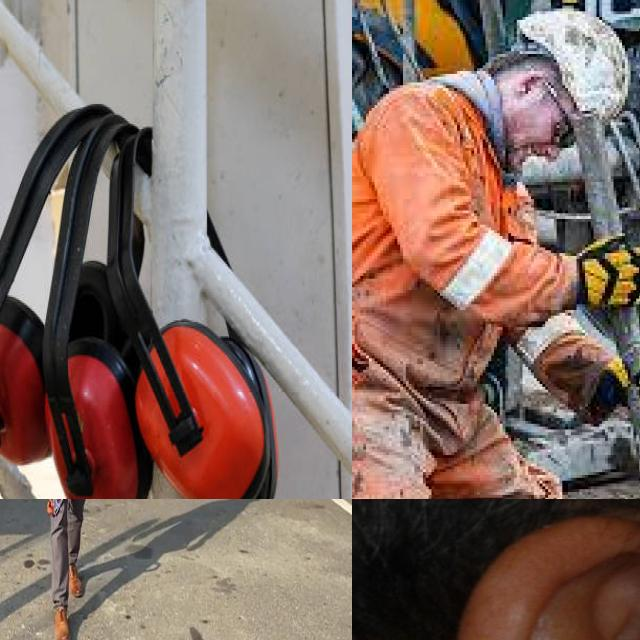Ear-protection: (108, 122, 277, 499), (45, 121, 145, 499), (0, 104, 98, 460)
No_Ear-Protection: (451, 512, 640, 640), (502, 67, 554, 107)
face_nomask: (504, 106, 560, 171)
hand_glove: (578, 235, 640, 310), (593, 360, 628, 410)
head_helmet: (520, 8, 630, 119)
